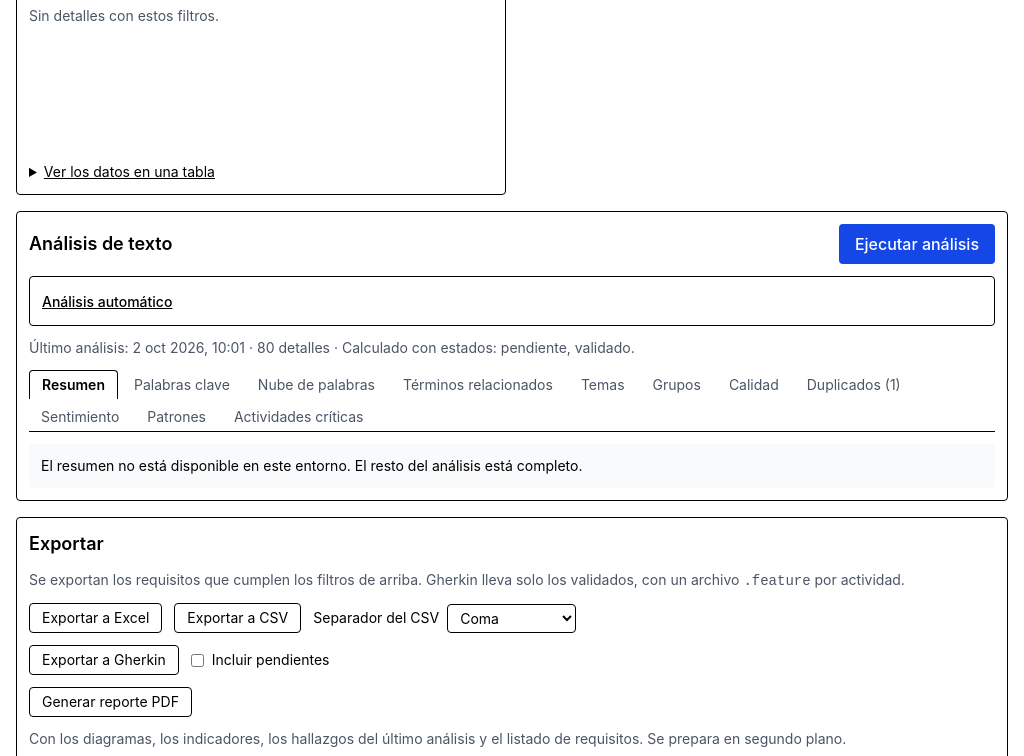
resultados › palabras clave de la actividad elegida, de mayor a menor
The image size is (1024, 756).
(page scrolled)
What coordinates should you click on to do the following:
click the tab "Palabras clave"
I would click on:
 (182, 384)
Its box is [122,370,242,399].
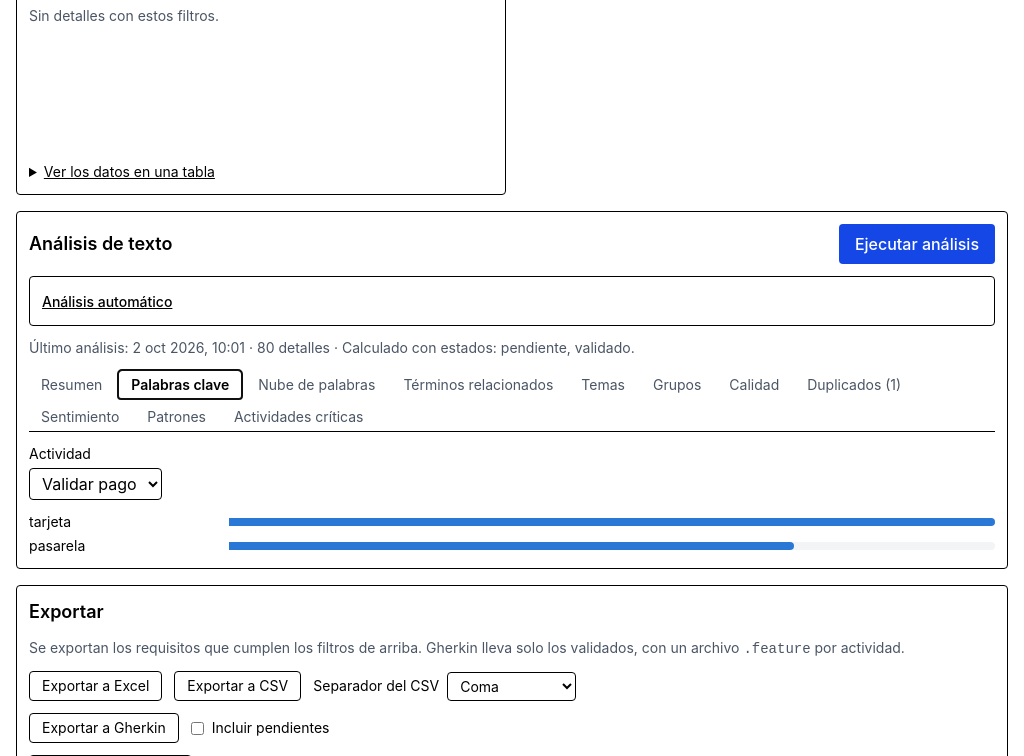
Now the dropdown labelled "Actividad" shows "Validar pago", box [29,468,162,500]
Now the list items read "tarjeta", "pasarela", in this order, box [29,512,995,532]; [29,536,995,556]
